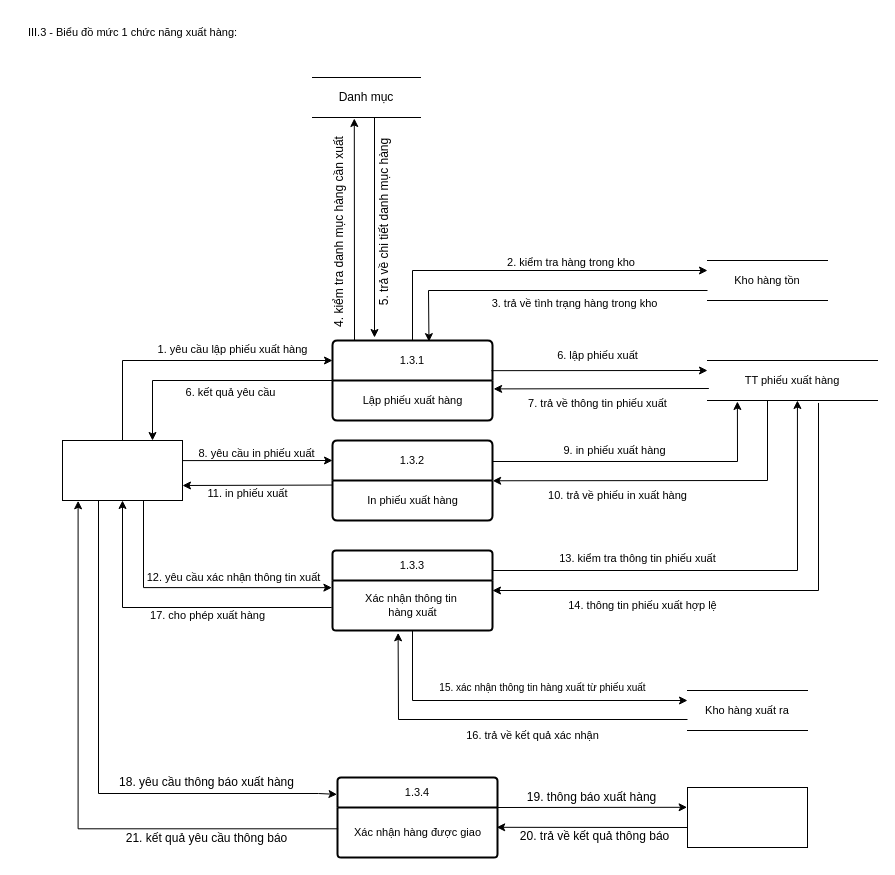
Some shapes in this 895 by 875 pixel diagram are drawn without their labels. Each missing label, with the centre of its shape:
Khách hàng: the point at 747,817
Nhân viên: the point at 122,470
